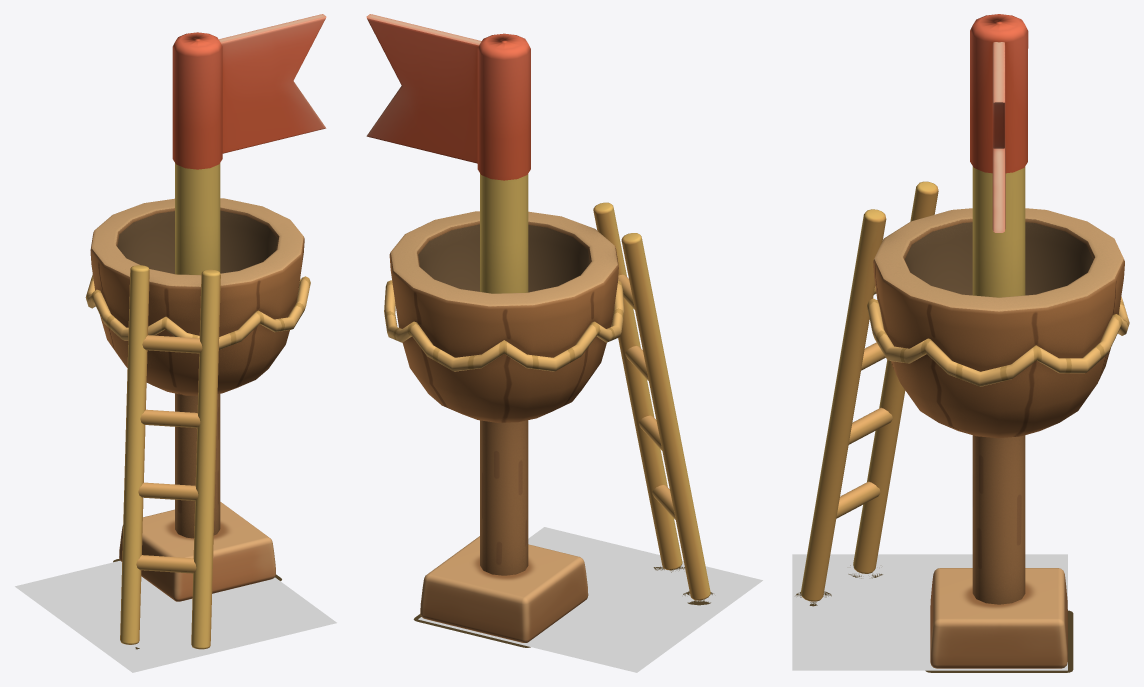
The model's file is VK_Lighthouse.fbx.
The picture shows the model from 3 angles, left to right: view 1: azimuth 30°, elevation 25°; view 2: azimuth 150°, elevation 25°; view 3: azimuth 270°, elevation 25°; orthographic projection. The views are drawn at different scales.
Parts seen in each view (by area): view 1: pCylinder74, pCylinder76, polySurface72, Lighthouse_Grid_Large, Lighthouse_Grid; view 2: pCylinder74, polySurface72, Lighthouse_Grid_Large, pCylinder76, Lighthouse_Grid; view 3: pCylinder74, pCylinder76, Lighthouse_Grid_Large, polySurface72, Lighthouse_Grid, Shadow.
Boxes of the visible parts, <box> form: pCylinder74: <box>85,163,310,601</box>; pCylinder76: <box>120,265,220,649</box>; polySurface72: <box>172,14,326,169</box>; Lighthouse_Grid_Large: <box>15,561,336,672</box>; Lighthouse_Grid: <box>141,582,256,624</box>; pCylinder74: <box>384,173,624,642</box>; polySurface72: <box>366,14,530,180</box>; Lighthouse_Grid_Large: <box>418,527,762,672</box>; pCylinder76: <box>593,202,710,600</box>; Lighthouse_Grid: <box>556,568,676,636</box>; pCylinder74: <box>867,166,1129,668</box>; pCylinder76: <box>801,181,938,601</box>; Lighthouse_Grid_Large: <box>792,554,1067,670</box>; polySurface72: <box>970,14,1028,232</box>; Lighthouse_Grid: <box>861,583,932,627</box>; Shadow: <box>795,565,1073,672</box>.
Size of the model in its own units: 2.74 by 4.96 by 2.45.
